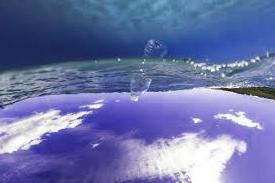Plastic: (113, 33, 179, 115)
